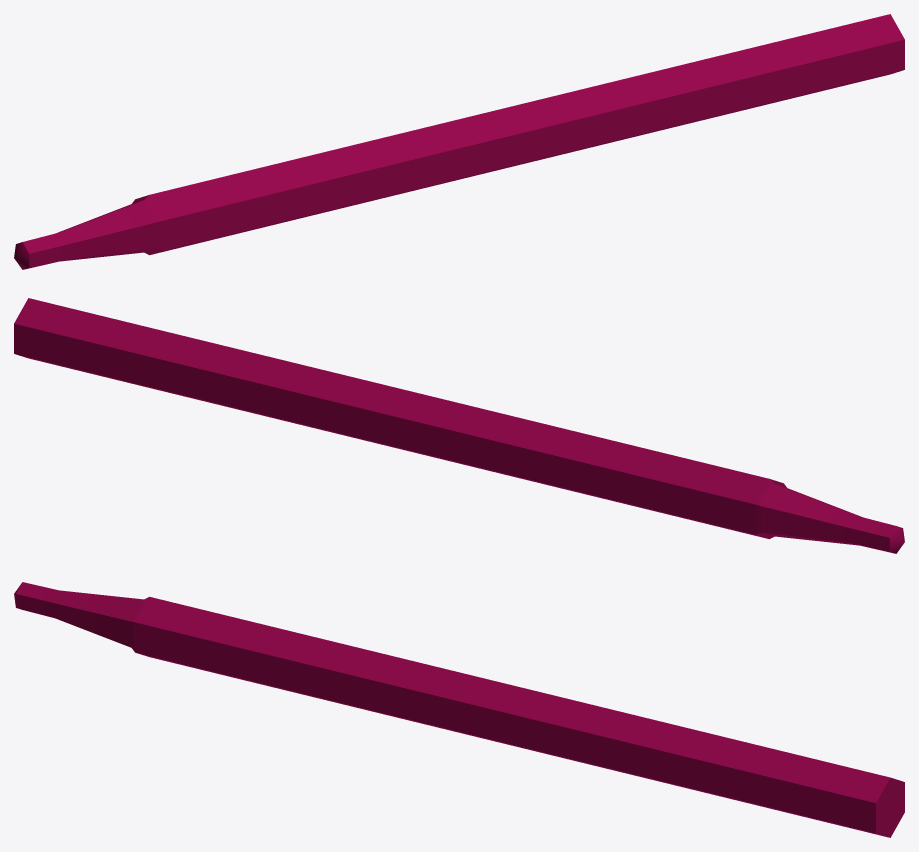
Rendered from Felt_Pen_01.fbx.
The picture shows the model from 3 angles, top to bottom: view 1: azimuth 30°, elevation 25°; view 2: azimuth 150°, elevation 25°; view 3: azimuth 330°, elevation 25°; orthographic projection.
Visible parts, largest first — view 1: Felt_Pen_01; view 2: Felt_Pen_01; view 3: Felt_Pen_01.
Boxes of the visible parts, x1,y1,x2,y2 form: Felt_Pen_01: (14, 14, 904, 269); Felt_Pen_01: (14, 298, 904, 553); Felt_Pen_01: (14, 582, 904, 837).
Bounding box in the file's own units: 89.26 × 5.88 × 5.09.
